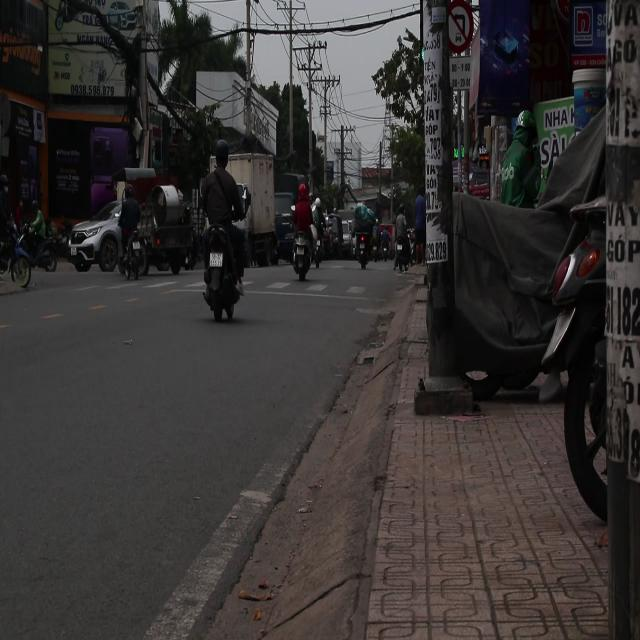car: (68, 192, 140, 273)
motorbike: (200, 224, 247, 323), (4, 188, 33, 316), (281, 199, 316, 301), (9, 217, 61, 275), (342, 220, 378, 278)
